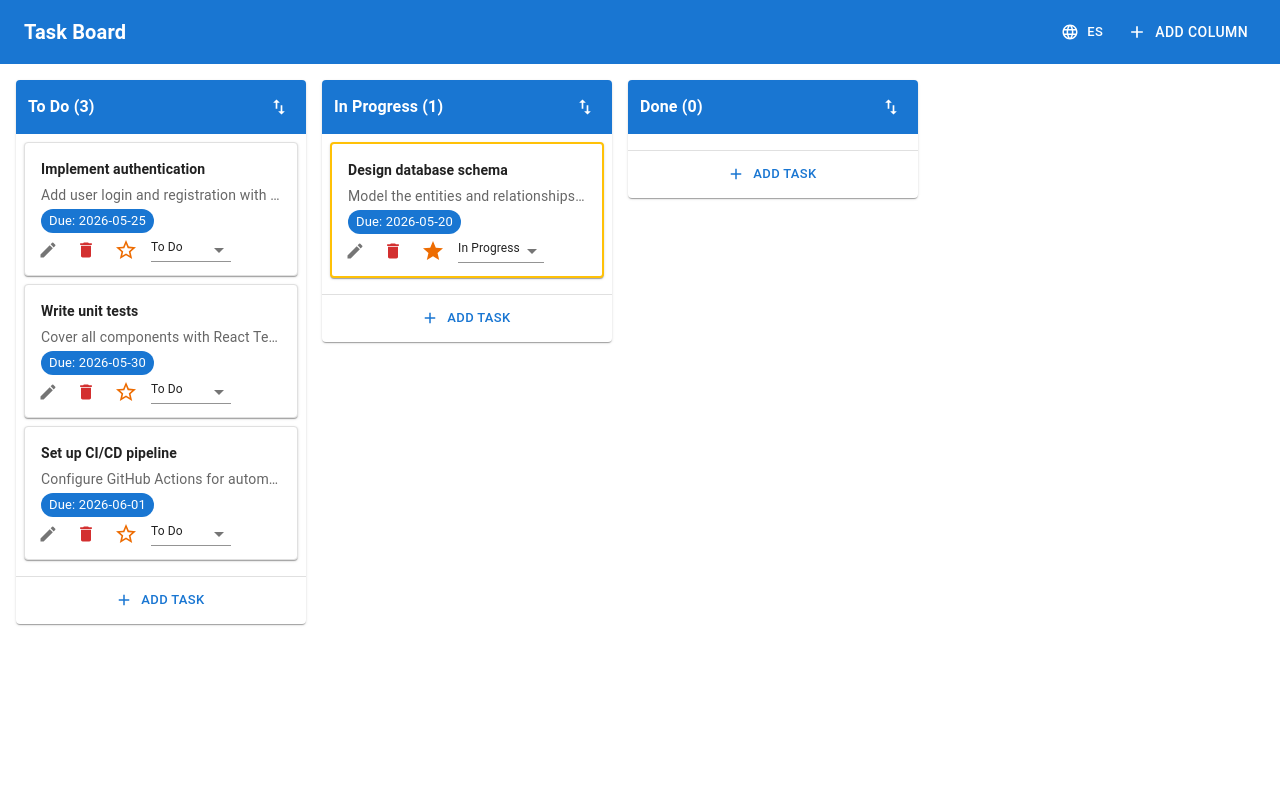
Test: Board › opens the task add dialog when the Add Task button in a column is clicked
Click the button with test id "add-task-btn-col-1".
click(161, 600)  # box x1=24 y1=585 x2=298 y2=616
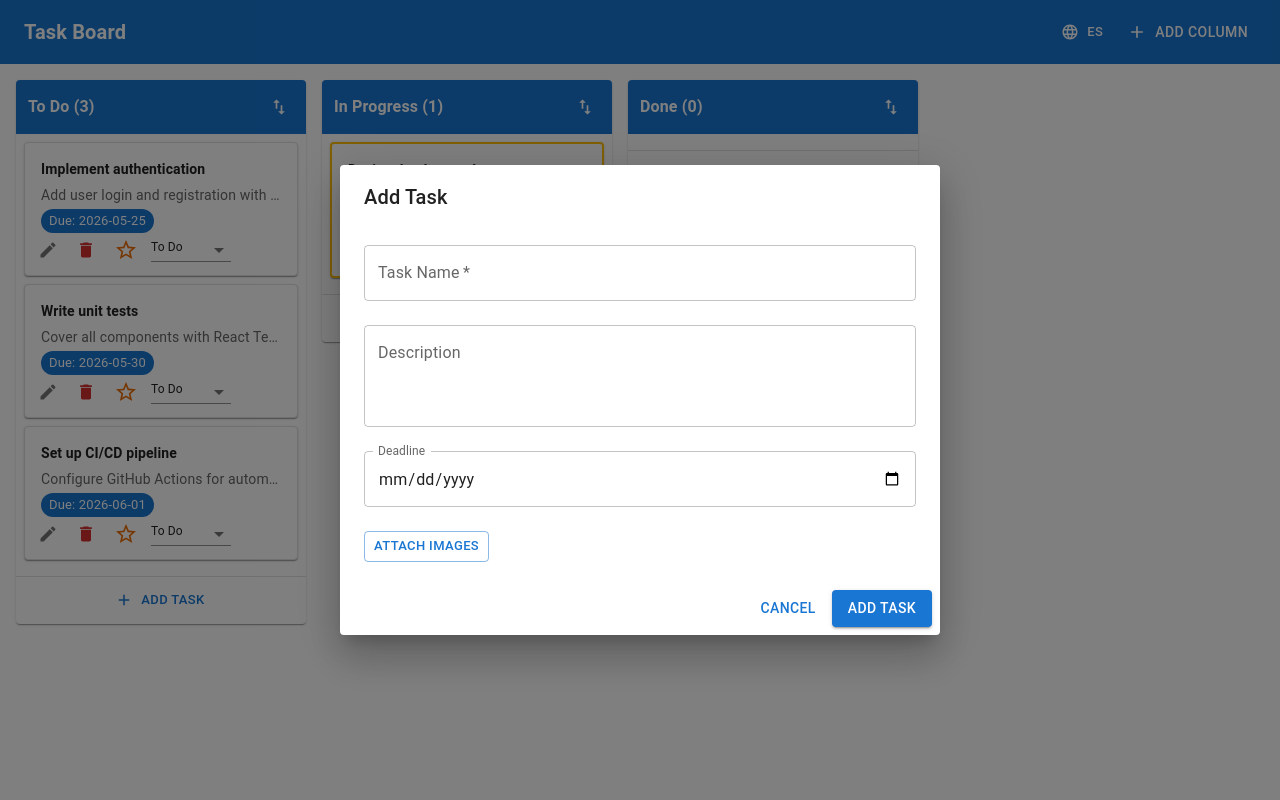
Check: the field with test id "task-name-input" is shown, box x1=364 y1=245 x2=916 y2=301
